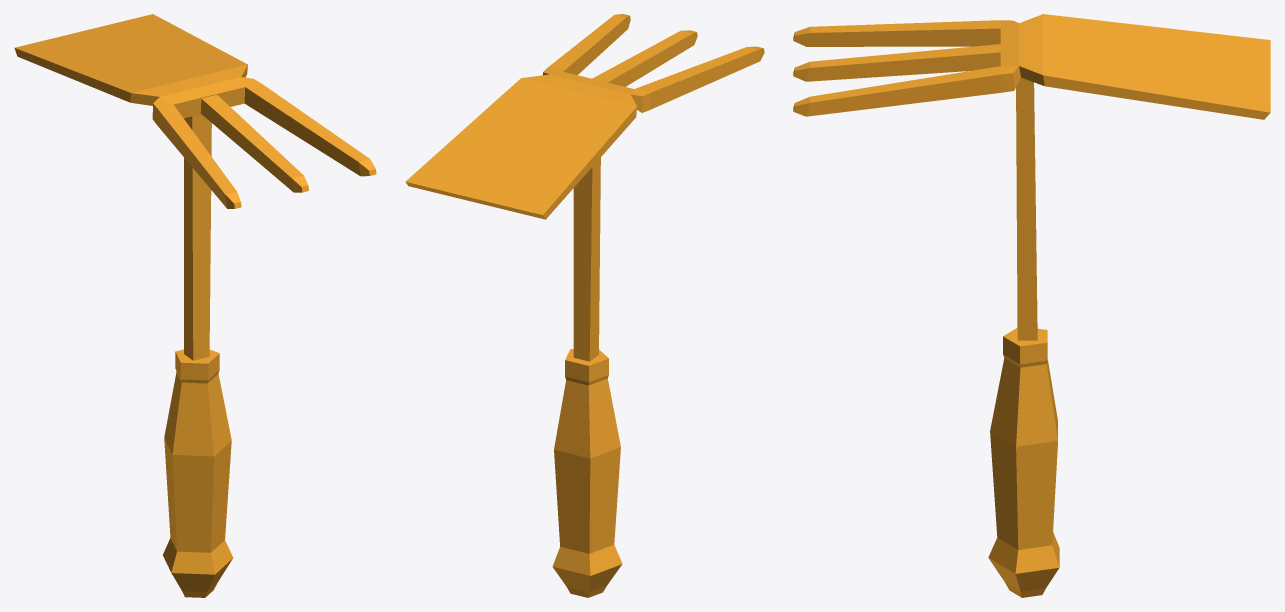
Rendered from SM_Hoe_Double_Sided_Gardening.fbx.
The picture shows the model from 3 angles, left to right: view 1: azimuth 30°, elevation 25°; view 2: azimuth 150°, elevation 25°; view 3: azimuth 270°, elevation 25°; orthographic projection. The views are drawn at different scales.
Visible parts, largest first — view 1: hoe-double-sided-gardening; view 2: hoe-double-sided-gardening; view 3: hoe-double-sided-gardening.
Part boxes in pixels (x1,y1,x2,y2): hoe-double-sided-gardening: (14, 14, 376, 597); hoe-double-sided-gardening: (405, 14, 764, 597); hoe-double-sided-gardening: (793, 14, 1270, 597).
Bounding box in the file's own units: 0.1011 × 0.338 × 0.2679.
